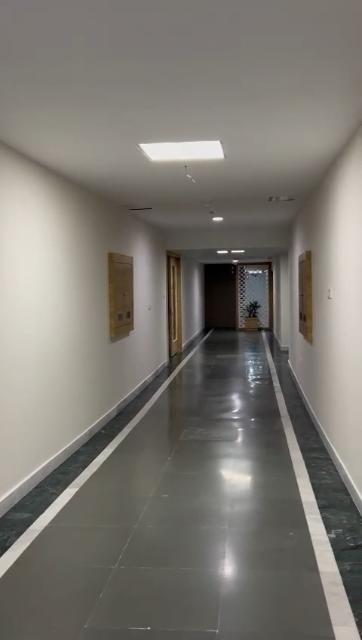door: (164, 254, 186, 360)
floor: (1, 324, 362, 640)
object: (244, 300, 262, 332)
wall: (1, 145, 166, 489), (284, 143, 362, 496)
